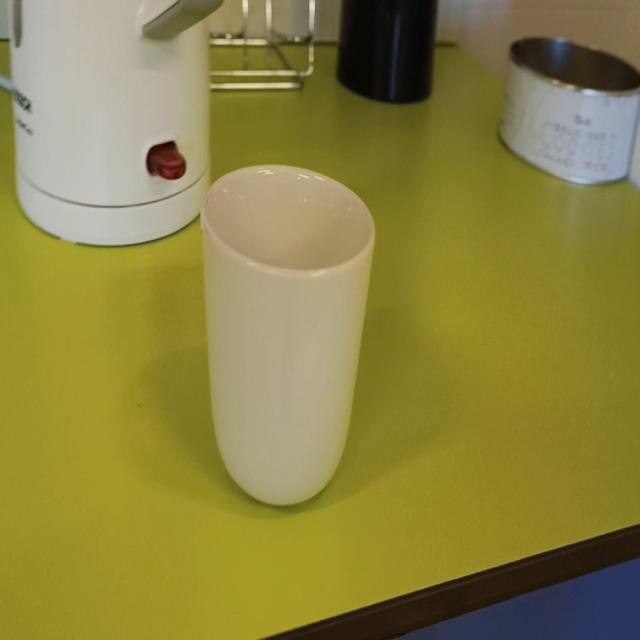cup: (200, 163, 377, 510)
